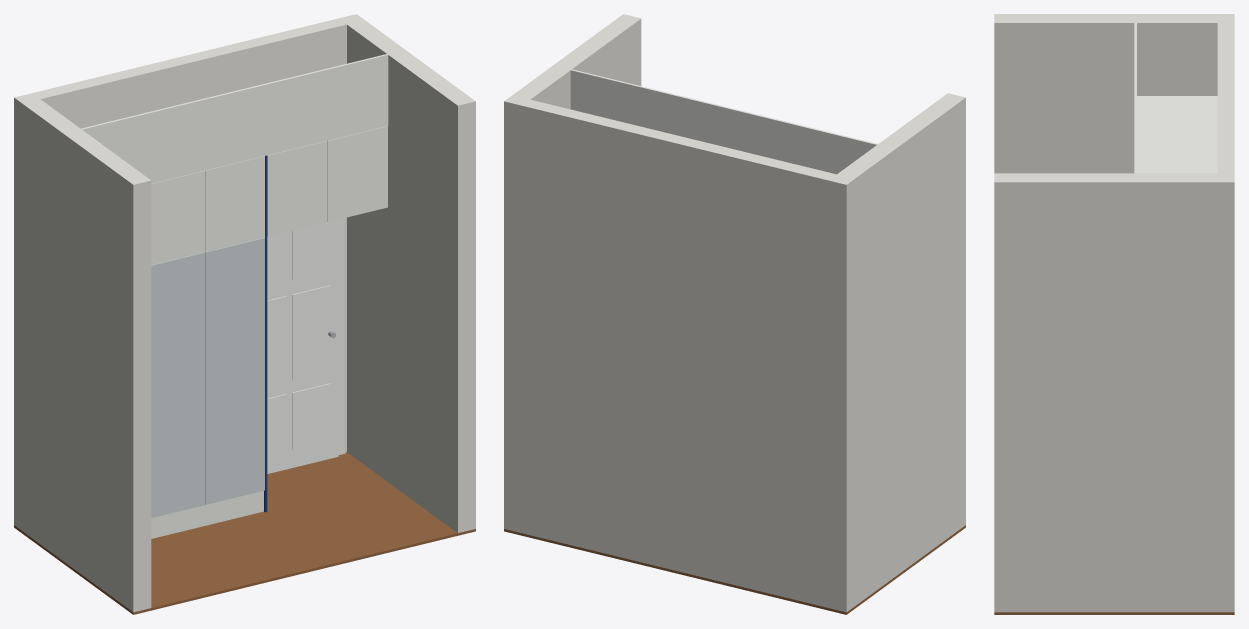
3 renders of one model, left to right at view 1: azimuth 30°, elevation 25°; view 2: azimuth 150°, elevation 25°; view 3: azimuth 270°, elevation 25°, orthographic.
Visible parts, largest first — view 1: Room: left wall, Room: right wall, Room: floor, Top panel to the ceiling, Room: back wall, Mirror door 3, Mirror door 2, Room: door, Top door 4, push to open, Top door 5, push to open, Top door 3, push to open, Top door 2, push to open (+9 smaller); view 2: Room: back wall, Room: left wall, Top panel to the ceiling, Room: right wall, Room: floor; view 3: Room: right wall, Room: left wall, Room: back wall, Top cupboard 1: Top, Top cupboard 2: Top, Top cupboard 3: Top, Room: floor, Top panel to the ceiling.
Part boxes in pixels (left/top/right/bottom): Room: left wall: left=22, top=99, right=151, bottom=612; Room: right wall: left=347, top=20, right=475, bottom=533; Room: floor: left=14, top=452, right=475, bottom=614; Top panel to the ceiling: left=81, top=54, right=388, bottom=183; Room: back wall: left=14, top=14, right=364, bottom=530; Mirror door 3: left=205, top=237, right=264, bottom=504; Mirror door 2: left=151, top=252, right=205, bottom=517; Room: door: left=267, top=219, right=338, bottom=473; Top door 4, push to open: left=267, top=141, right=327, bottom=236; Top door 5, push to open: left=327, top=126, right=387, bottom=221; Top door 3, push to open: left=205, top=156, right=264, bottom=251; Top door 2, push to open: left=151, top=170, right=205, bottom=264; Room: back wall: left=504, top=95, right=854, bottom=612; Room: left wall: left=837, top=93, right=965, bottom=605; Top panel to the ceiling: left=570, top=69, right=877, bottom=174; Room: right wall: left=513, top=14, right=641, bottom=109; Room: floor: left=504, top=525, right=965, bottom=614; Room: right wall: left=994, top=173, right=1217, bottom=612; Room: left wall: left=994, top=14, right=1217, bottom=173; Room: back wall: left=1217, top=14, right=1234, bottom=612; Top cupboard 1: Top: left=1137, top=97, right=1217, bottom=124; Top cupboard 2: Top: left=1137, top=126, right=1217, bottom=153; Top cupboard 3: Top: left=1137, top=156, right=1217, bottom=173; Room: floor: left=994, top=612, right=1234, bottom=614; Top panel to the ceiling: left=1134, top=23, right=1136, bottom=173.
Bounding box in the file's own units: 2.85 × 3.42 × 1.72.
